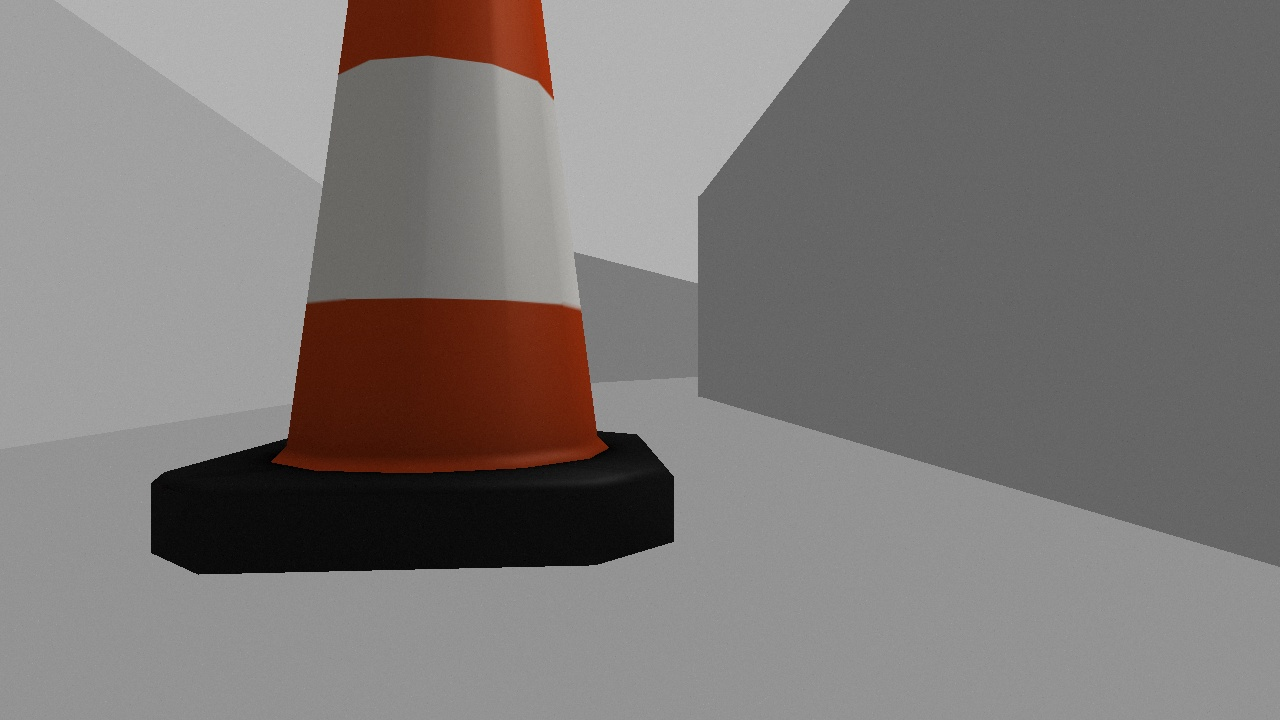barricade: (123, 1, 701, 602)
